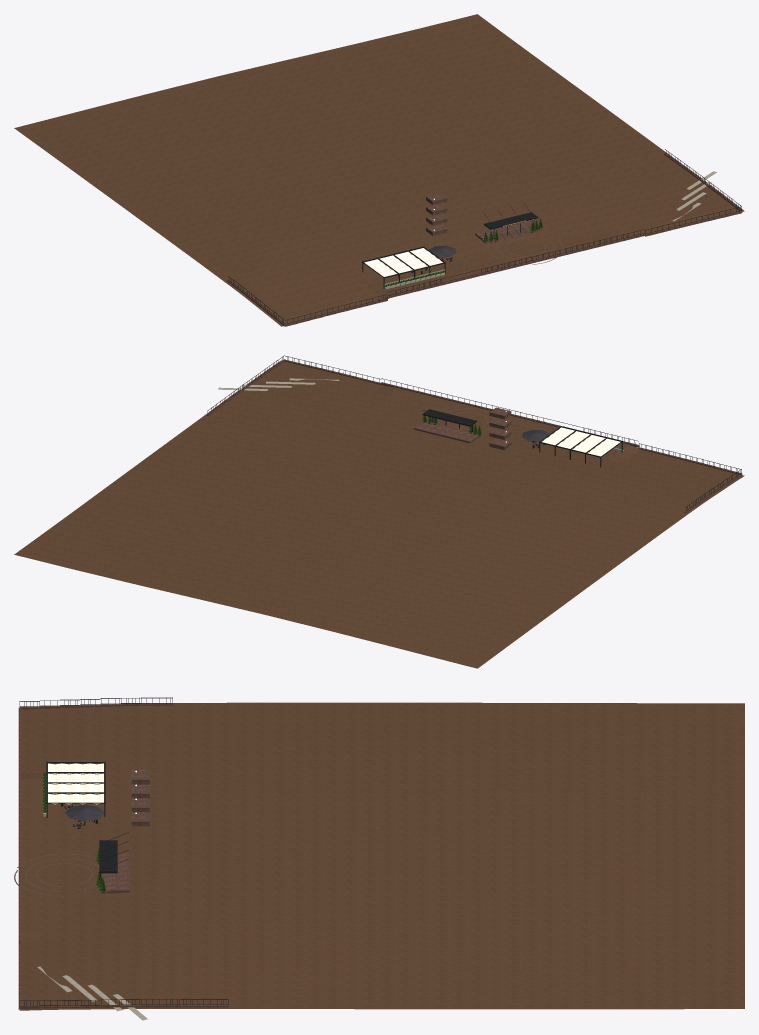
File: hotel_plazoleta.glb
The picture shows the model from 3 angles, top to bottom: view 1: azimuth 30°, elevation 25°; view 2: azimuth 150°, elevation 25°; view 3: azimuth 270°, elevation 25°; orthographic projection. The views are drawn at different scales.
Parts seen in each view (by area): view 1: Hotel_Plazoleta; view 2: Hotel_Plazoleta; view 3: Hotel_Plazoleta.
Part boxes in pixels (left/top/right/bottom): Hotel_Plazoleta: left=14, top=14, right=744, bottom=326; Hotel_Plazoleta: left=14, top=355, right=744, bottom=668; Hotel_Plazoleta: left=14, top=697, right=744, bottom=1020.
Bounding box in the file's own units: 150 × 14.59 × 145.
10 materials, 8 textured.
